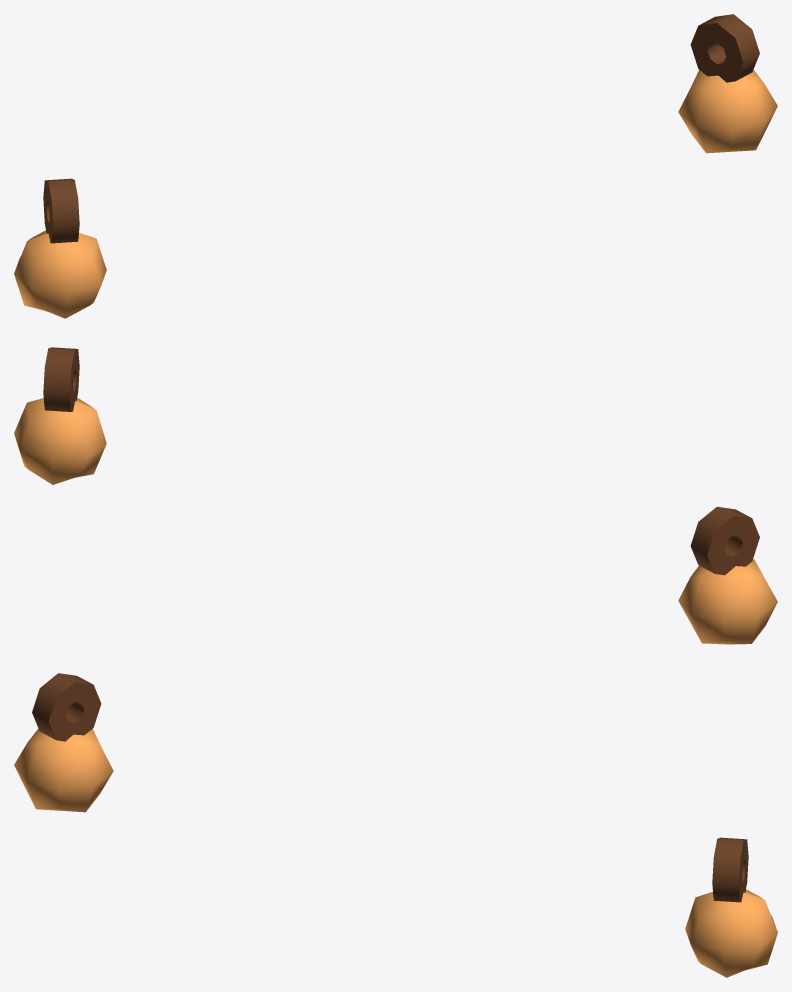
Rendered from Earring_19.fbx.
3 renders of one model, top to bottom at view 1: azimuth 30°, elevation 25°; view 2: azimuth 150°, elevation 25°; view 3: azimuth 330°, elevation 25°, orthographic.
Visible parts, largest first — view 1: Earring_19; view 2: Earring_19; view 3: Earring_19.
Boxes of the visible parts, box(x1,y1,x2,y2) form: Earring_19: box(14, 14, 777, 318); Earring_19: box(14, 347, 777, 644); Earring_19: box(14, 673, 777, 977).
Size of the model in its own units: 56.28 by 9.59 by 5.92.
